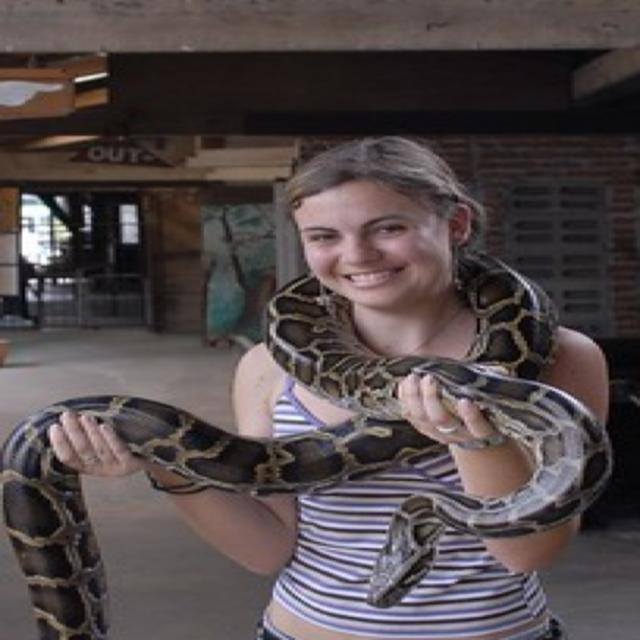snake: (0, 247, 615, 640)
